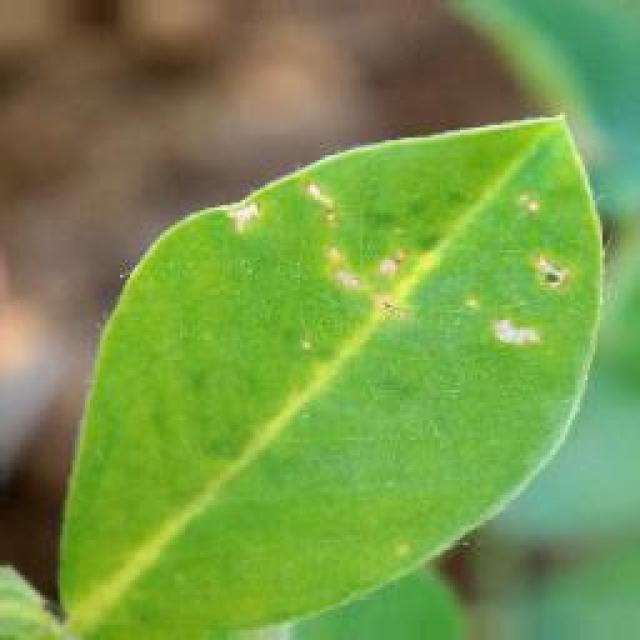Yellow_and_black_sigatoka: (101, 130, 585, 640)
